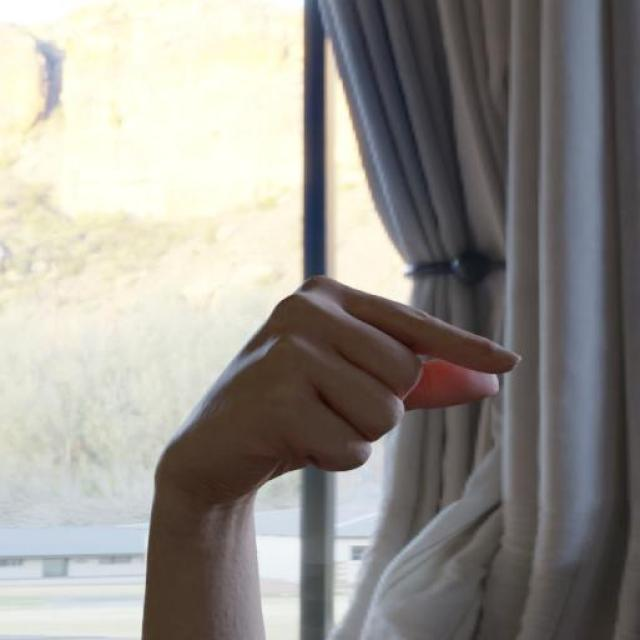G: (152, 267, 527, 522)
